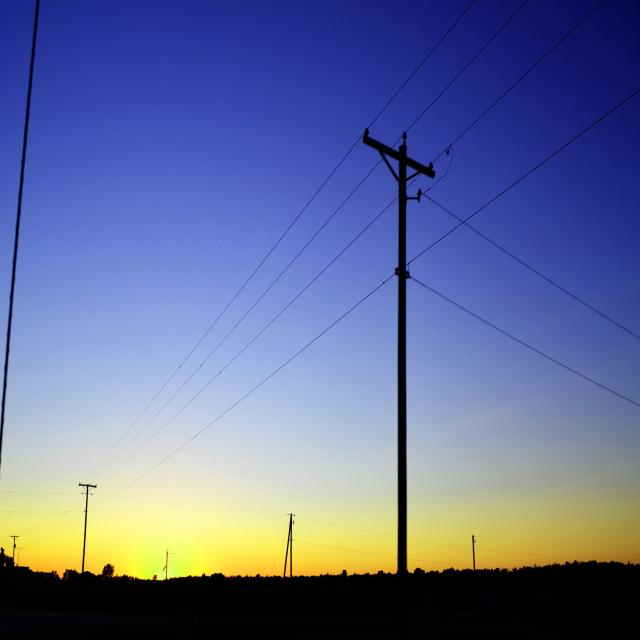pole: (394, 189, 414, 575), (80, 488, 89, 570), (282, 514, 290, 576), (468, 535, 479, 573), (289, 542, 293, 576), (12, 537, 16, 561), (165, 554, 168, 578)
